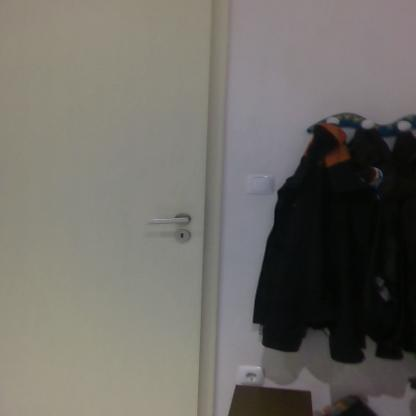door: (0, 0, 202, 415)
lever: (140, 216, 194, 225)
